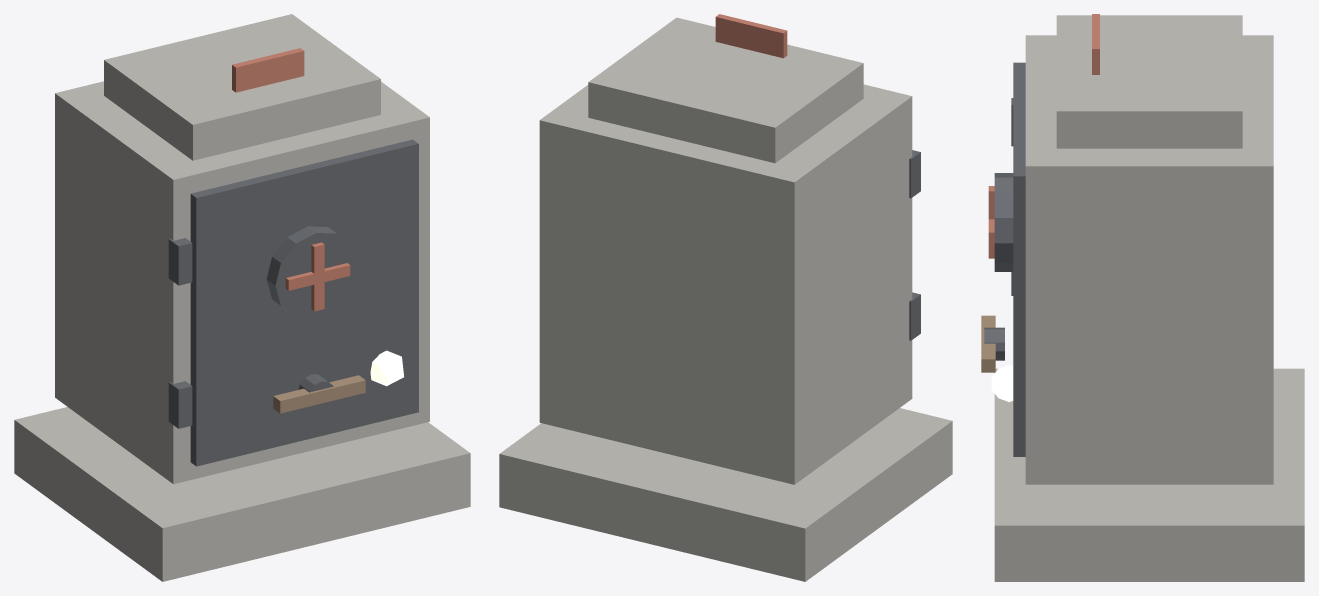
The model's file is LM10_Vault.glb.
3 renders of one model, left to right at view 1: azimuth 30°, elevation 25°; view 2: azimuth 150°, elevation 25°; view 3: azimuth 270°, elevation 25°, orthographic. The views are drawn at different scales.
Parts seen in each view (by area): view 1: Body, Door, Base.001, Crown, DialHub, Plaque, Lever, HingeA, HingeB, Keyhole, DialSpokeH, DialSpokeV; view 2: Body, Base.001, Crown, Plaque; view 3: Body, Base.001, Crown, Door, DialHub, Lever, Keyhole, LeverHub, Plaque.
Part boxes in pixels (x1,y1,x2,y2): Body: (55,81,429,484); Door: (190,139,418,466); Base.001: (14,407,470,581); Crown: (104,14,380,160); DialHub: (266,226,357,318); Plaque: (232,48,304,92); Lever: (273,375,365,413); HingeA: (168,238,192,285); HingeB: (168,381,192,428); Keyhole: (370,350,403,386); DialSpokeH: (285,263,350,290); DialSpokeV: (311,242,324,311); Body: (539,84,912,484); Base.001: (499,408,952,581); Crown: (588,17,863,163); Plaque: (715,14,787,58); Body: (1025,35,1273,484); Base.001: (994,368,1304,581); Crown: (1056,15,1242,148); Door: (1013,62,1025,456); DialHub: (994,173,1013,271); Lever: (981,315,995,372); Keyhole: (991,365,1013,401); LeverHub: (984,327,1004,360); Plaque: (1092,14,1099,74).
Bounding box in the file's own units: 1.8 × 2.52 × 1.56.
